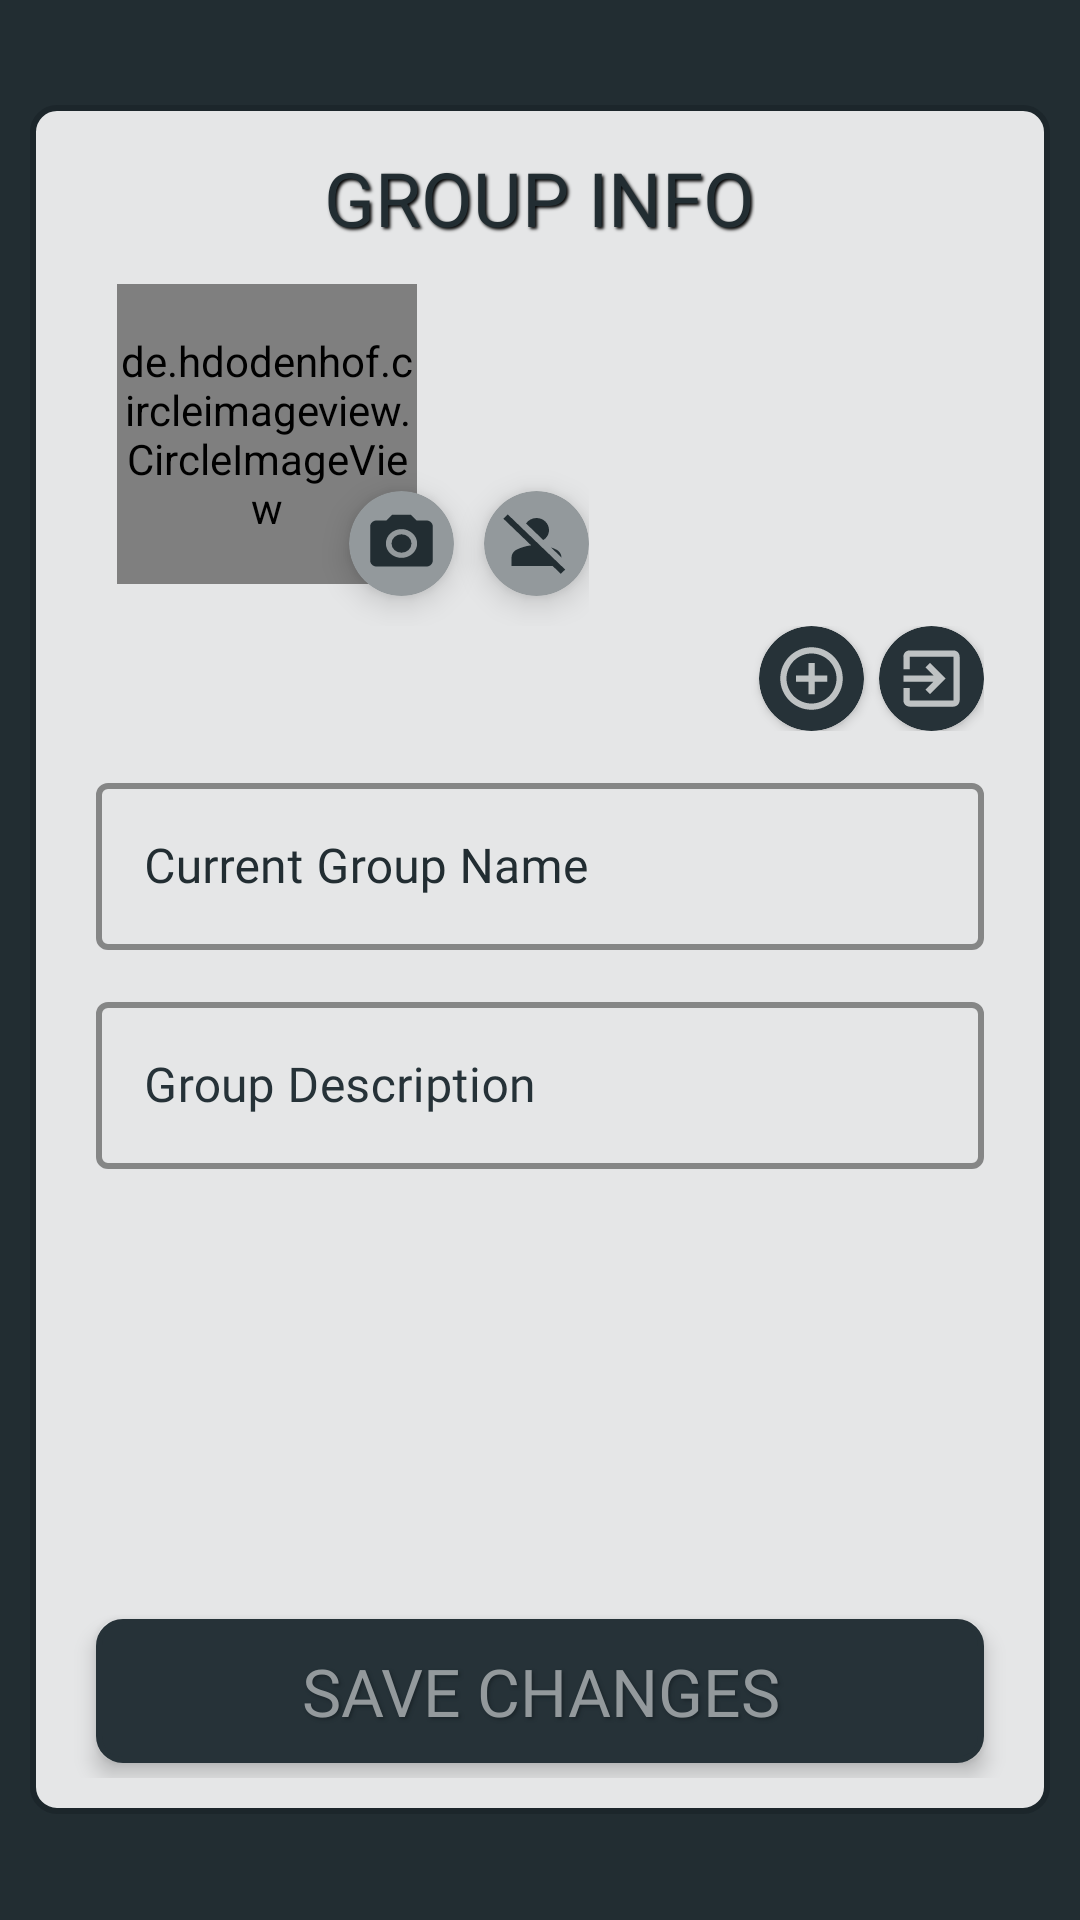

Named icons in this screenshot (1080px×1920px) and their bounding boxes, (x1, y1, x2, y2):
camera: (370, 514, 433, 567)
exit: (903, 650, 960, 707)
remove profile: (503, 514, 565, 574)
